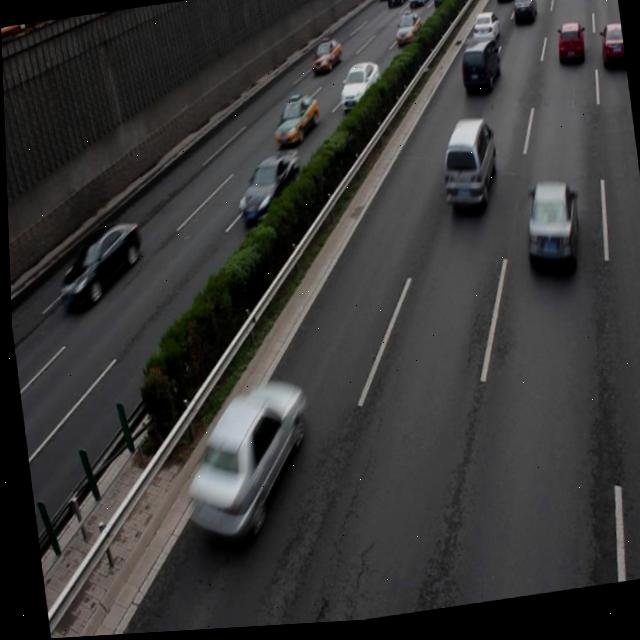car: (169, 381, 315, 553), (51, 221, 146, 313), (516, 183, 580, 282), (230, 151, 303, 231), (268, 95, 319, 151), (456, 42, 501, 101), (334, 64, 381, 118), (595, 28, 626, 79)
truck: (433, 120, 499, 220)
